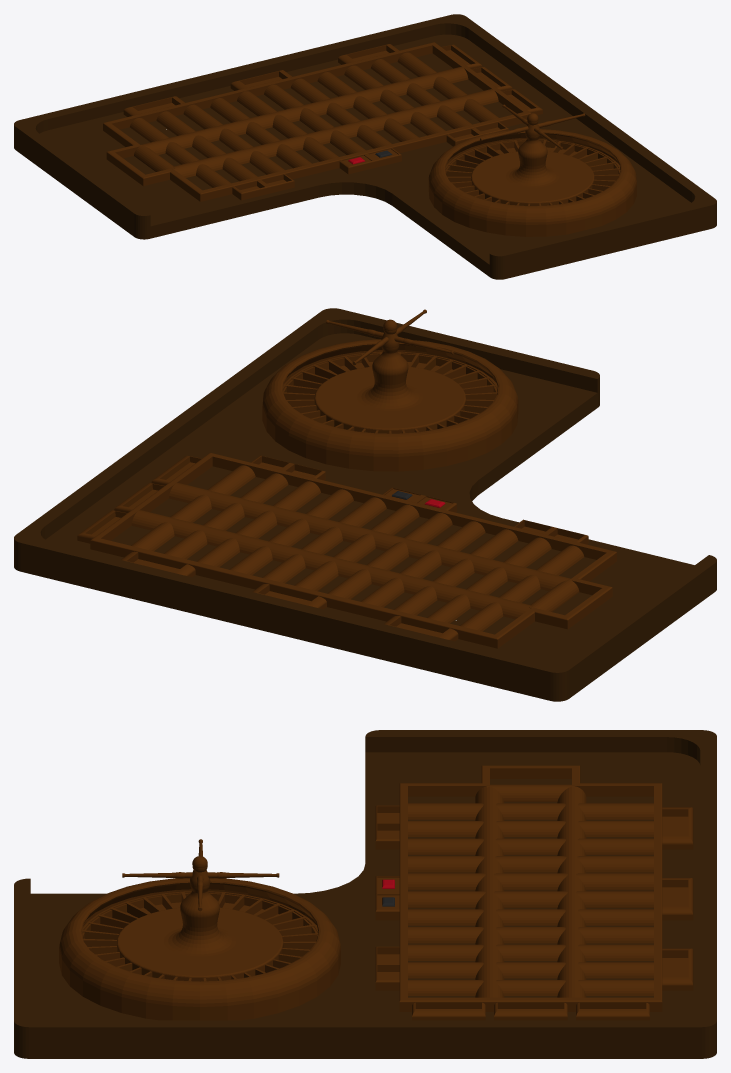
File: titble.glb
3 views of the same model, one above another, from view 1: azimuth 30°, elevation 25°; view 2: azimuth 150°, elevation 25°; view 3: azimuth 270°, elevation 25° (orthographic). The views are drawn at different scales.
Visible parts, largest first — view 1: tableu, cutout, wheel; view 2: tableu, cutout, wheel; view 3: tableu, cutout, wheel.
Boxes of the visible parts, bbox=[...] form: tableu: bbox=[14, 14, 716, 279]; cutout: bbox=[445, 113, 619, 205]; wheel: bbox=[445, 104, 620, 205]; tableu: bbox=[14, 308, 716, 701]; cutout: bbox=[283, 319, 497, 433]; wheel: bbox=[283, 309, 497, 432]; tableu: bbox=[14, 730, 716, 1058]; cutout: bbox=[81, 856, 318, 981]; wheel: bbox=[82, 839, 317, 980].
Size of the model in its own units: 4.25 by 0.8645 by 4.25.
